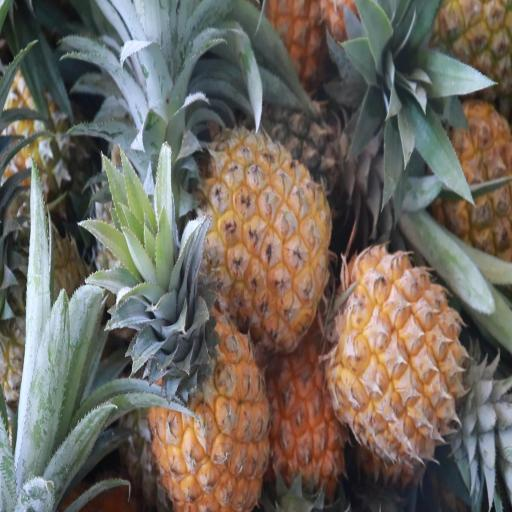Pineapple - v8 v1: (335, 252, 481, 464), (150, 259, 271, 512), (196, 132, 332, 352), (267, 346, 352, 512)
